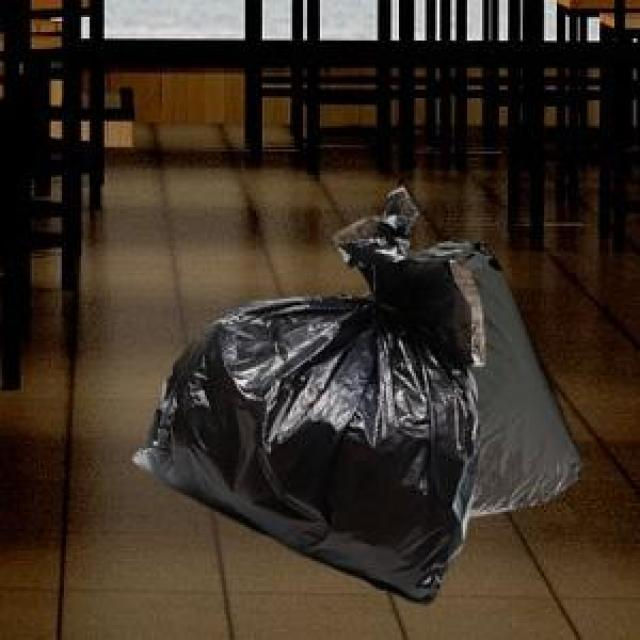garbage_bag: (130, 275, 484, 601)
